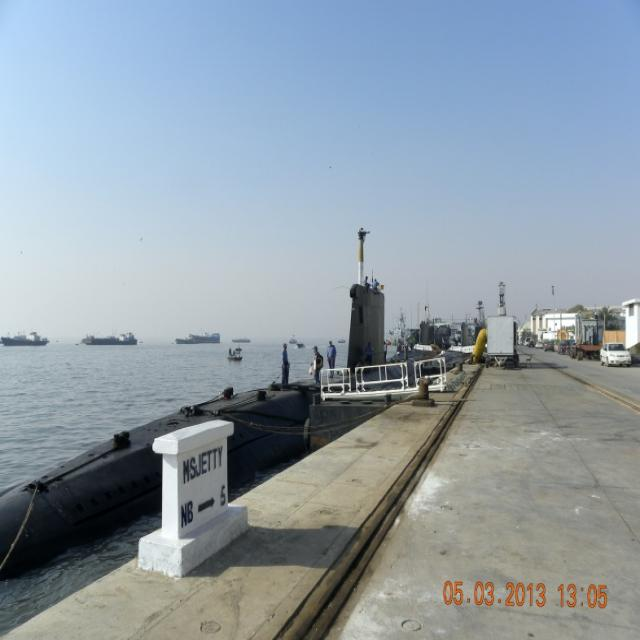submarine: (1, 286, 504, 574)
